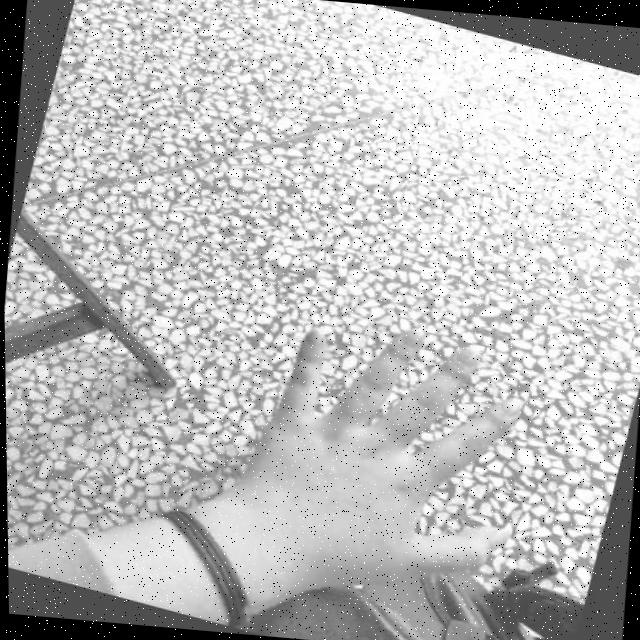hand: (199, 307, 533, 617)
